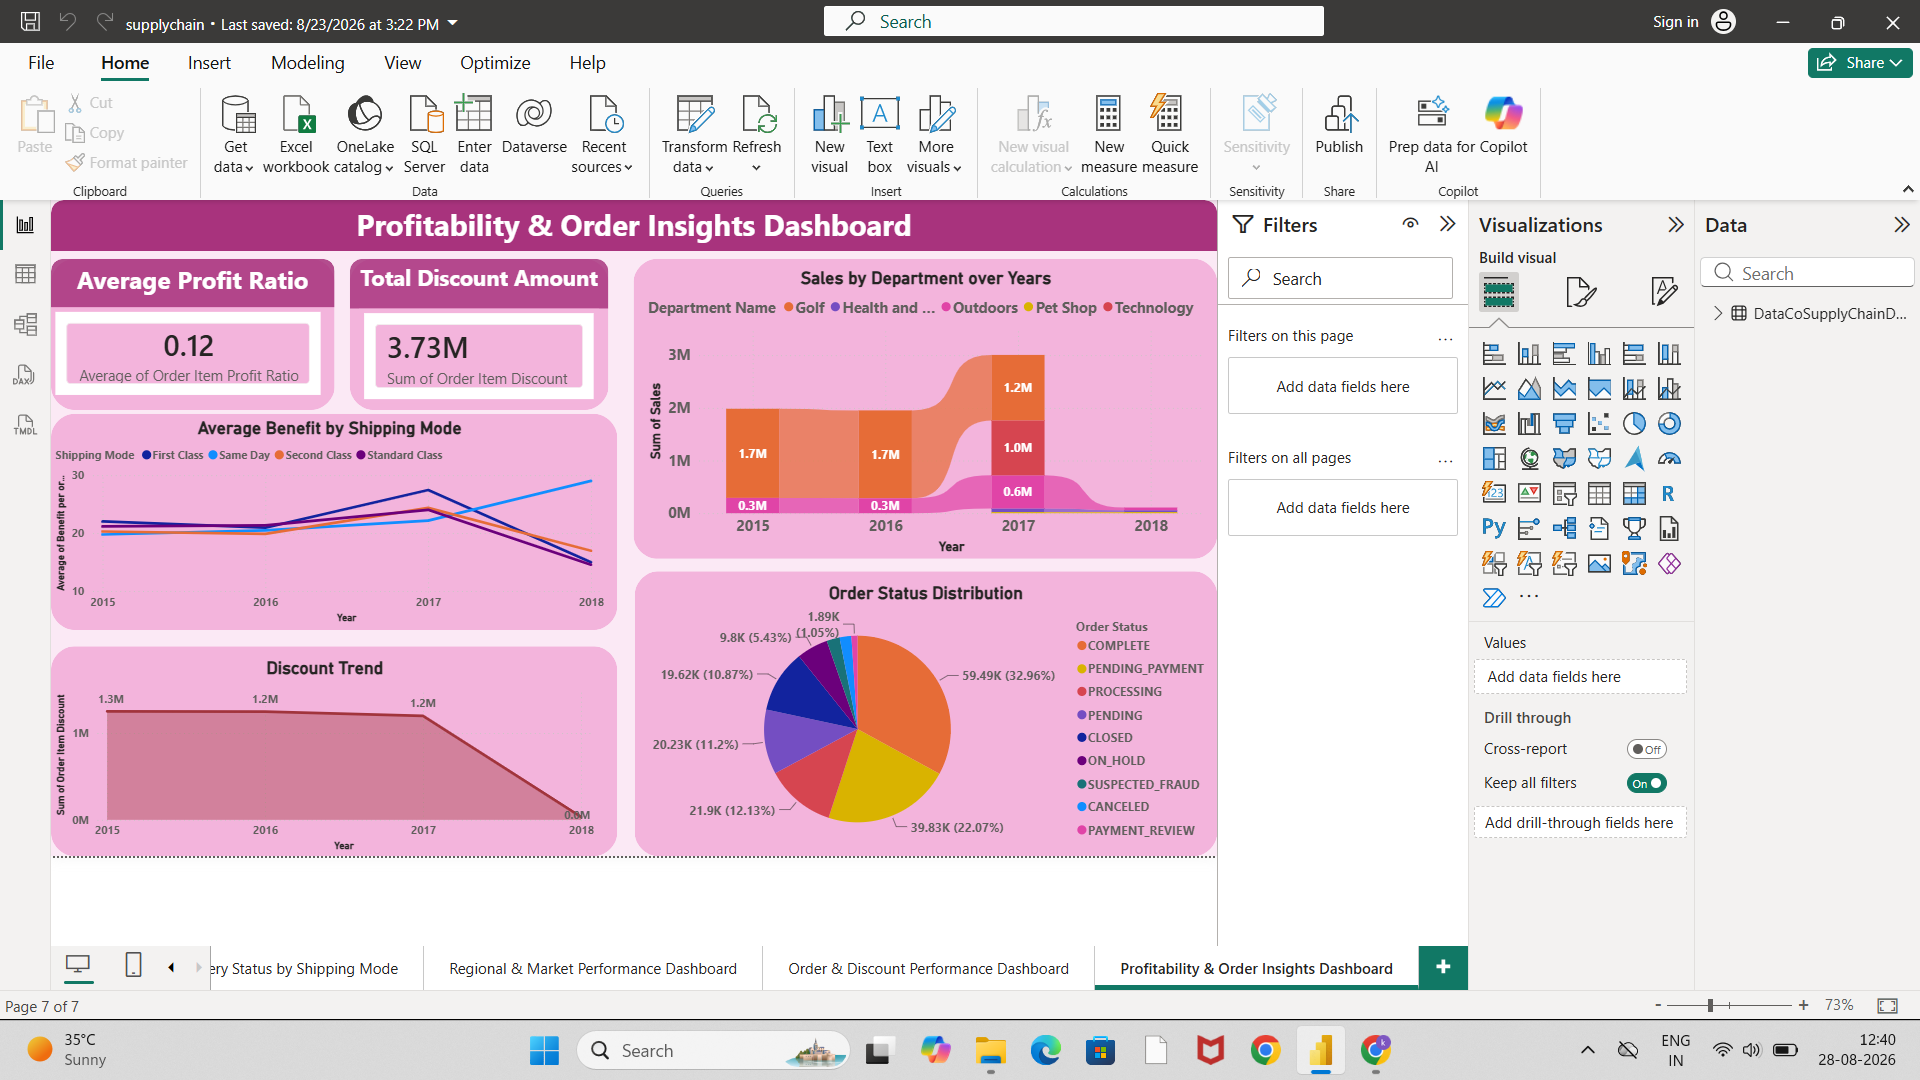

Layout of this report page (visuals, bound fields, positions):
{"tool":"powerbi","page":{"name":"Profitability & Order Insights Dashboard","canvas":[1280,720],"ordinal":6},"visuals":[{"type":"shape","box":[0,64.5,311.5,166],"z":0},{"type":"shape","box":[0,0,1280.3,56.3],"z":1000},{"type":"shape","box":[0,64.5,311.5,53.5],"z":2000},{"type":"cardVisual","fields":{"Data":["Avg(DataCoSupplyChainDataset.Order Item Profit Ratio)"]},"box":[0,118,301.9,101.5],"z":3000},{"type":"textbox","box":[0,64.5,311.5,53.5],"z":4000},{"type":"shape","box":[328,64.5,284,166],"z":5000},{"type":"shape","box":[328,64.5,284,54.9],"z":6000},{"type":"cardVisual","fields":{"Data":["Sum(DataCoSupplyChainDataset.Order Item Discount)"]},"box":[338.9,119.4,262.1,104.3],"z":7000},{"type":"textbox","box":[328,64.5,284,53.5],"z":8000},{"type":"shape","box":[639.5,64.5,640.8,329.3],"z":9000},{"type":"ribbonChart","title":"Sales by Department over Years","fields":{"Category":["DataCoSupplyChainDataset.Year"],"Series":["DataCoSupplyChainDataset.Department Name"],"Y":["Sum(DataCoSupplyChainDataset.Sales)"]},"box":[650.4,74.1,620.2,319.7],"z":10000},{"type":"shape","box":[640.8,407.5,639.5,312.9],"z":11000},{"type":"shape","box":[0,489.9,621.6,230.5],"z":12000},{"type":"shape","box":[0,234.6,621.6,237.4],"z":13000},{"type":"lineChart","title":"Average Benefit by Shipping Mode","fields":{"Category":["DataCoSupplyChainDataset.Year"],"Series":["DataCoSupplyChainDataset.Shipping Mode"],"Y":["Avg(DataCoSupplyChainDataset.Benefit per order)"]},"box":[0,238.8,612,230.5],"z":14000},{"type":"areaChart","title":"Discount Trend","fields":{"Category":["DataCoSupplyChainDataset.Year"],"Y":["Sum(DataCoSupplyChainDataset.Order Item Discount)"]},"box":[0,502.2,601,218.2],"z":15000},{"type":"pieChart","title":"Order Status Distribution","fields":{"Category":["DataCoSupplyChainDataset.Order Status"],"Y":["CountNonNull(DataCoSupplyChainDataset.Order Id)"]},"box":[640.8,419.9,639.5,300.5],"z":16000},{"type":"textbox","box":[0,0,1280.3,56.3],"z":17000}]}

Visuals, with their boxes on the page's 1280x720 design canvas (x1, y1, x2, y2). These are canvas units, not pixel positions in the 1920x1080 screenshot, which may show the page scaled, cropped or inside an application window:
shape: <bbox>0, 64, 312, 230</bbox>
shape: <bbox>0, 0, 1280, 56</bbox>
shape: <bbox>0, 64, 312, 118</bbox>
cardVisual - Avg(DataCoSupplyChainDataset.Order Item Profit Ratio): <bbox>0, 118, 302, 220</bbox>
textbox: <bbox>0, 64, 312, 118</bbox>
shape: <bbox>328, 64, 612, 230</bbox>
shape: <bbox>328, 64, 612, 119</bbox>
cardVisual - Sum(DataCoSupplyChainDataset.Order Item Discount): <bbox>339, 119, 601, 224</bbox>
textbox: <bbox>328, 64, 612, 118</bbox>
shape: <bbox>640, 64, 1280, 394</bbox>
"Sales by Department over Years" ribbonChart: <bbox>650, 74, 1271, 394</bbox>
shape: <bbox>641, 408, 1280, 720</bbox>
shape: <bbox>0, 490, 622, 720</bbox>
shape: <bbox>0, 235, 622, 472</bbox>
"Average Benefit by Shipping Mode" lineChart: <bbox>0, 239, 612, 469</bbox>
"Discount Trend" areaChart: <bbox>0, 502, 601, 720</bbox>
"Order Status Distribution" pieChart: <bbox>641, 420, 1280, 720</bbox>
textbox: <bbox>0, 0, 1280, 56</bbox>
